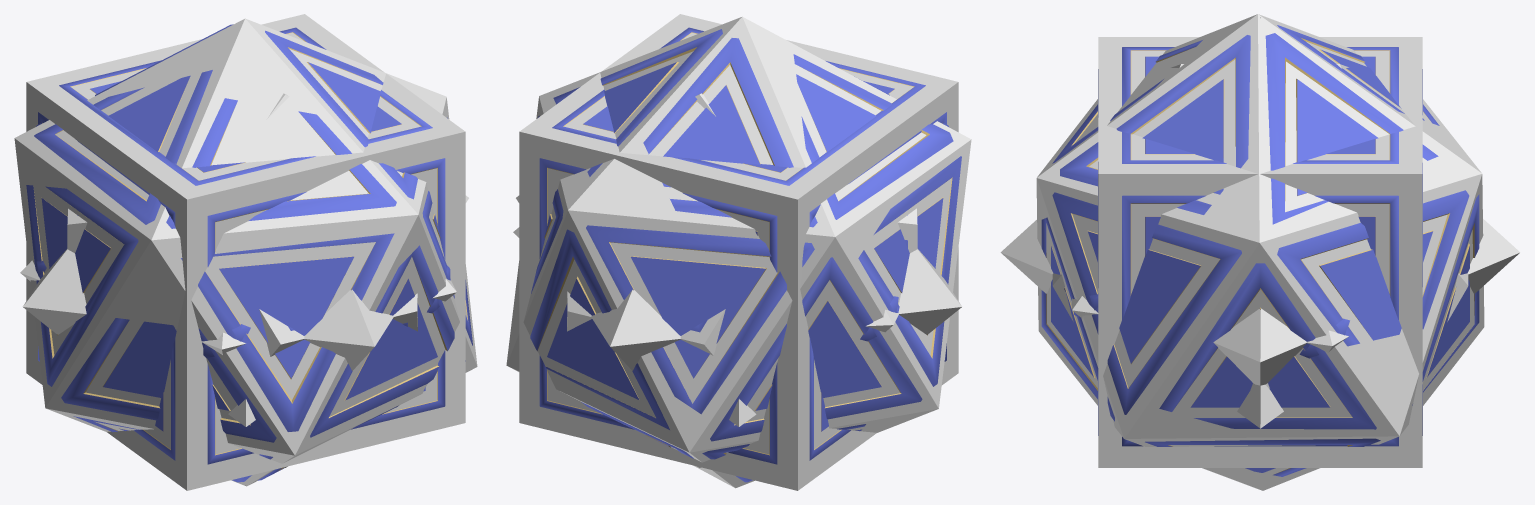
File: dice_detailed.fbx
3 renders of one model, left to right at view 1: azimuth 30°, elevation 25°; view 2: azimuth 150°, elevation 25°; view 3: azimuth 270°, elevation 25°, orthographic.
Visible parts, largest first — view 1: d20_coll, d20, d6_coll, d6, d8_coll, d12_coll, d10_coll, d10; view 2: d20_coll, d20, d6_coll, d6, d8_coll, d12_coll; view 3: d20_coll, d20, d6_coll, d6, d8_coll, d4_coll, d12_coll, d10_coll.
Boxes of the visible parts, left/top/right/bottom form: d20_coll: left=14, top=18, right=477, bottom=486; d20: left=26, top=24, right=472, bottom=482; d6_coll: left=26, top=14, right=465, bottom=490; d6: left=38, top=27, right=445, bottom=464; d8_coll: left=23, top=195, right=468, bottom=485; d12_coll: left=67, top=37, right=417, bottom=467; d10_coll: left=20, top=260, right=456, bottom=354; d10: left=36, top=260, right=450, bottom=358; d20_coll: left=506, top=16, right=971, bottom=488; d20: left=530, top=29, right=961, bottom=482; d6_coll: left=519, top=14, right=958, bottom=490; d6: left=539, top=27, right=946, bottom=464; d8_coll: left=516, top=19, right=961, bottom=370; d12_coll: left=567, top=93, right=917, bottom=467; d20_coll: left=1036, top=14, right=1484, bottom=490; d20: left=1041, top=25, right=1479, bottom=476; d6_coll: left=1098, top=37, right=1422, bottom=467; d6: left=1098, top=47, right=1422, bottom=446; d8_coll: left=1000, top=17, right=1520, bottom=385; d4_coll: left=1237, top=384, right=1283, bottom=428; d12_coll: left=1052, top=64, right=1468, bottom=389; d10_coll: left=1072, top=296, right=1348, bottom=352.
Bounding box in the file's own units: 320 × 323 × 320.
